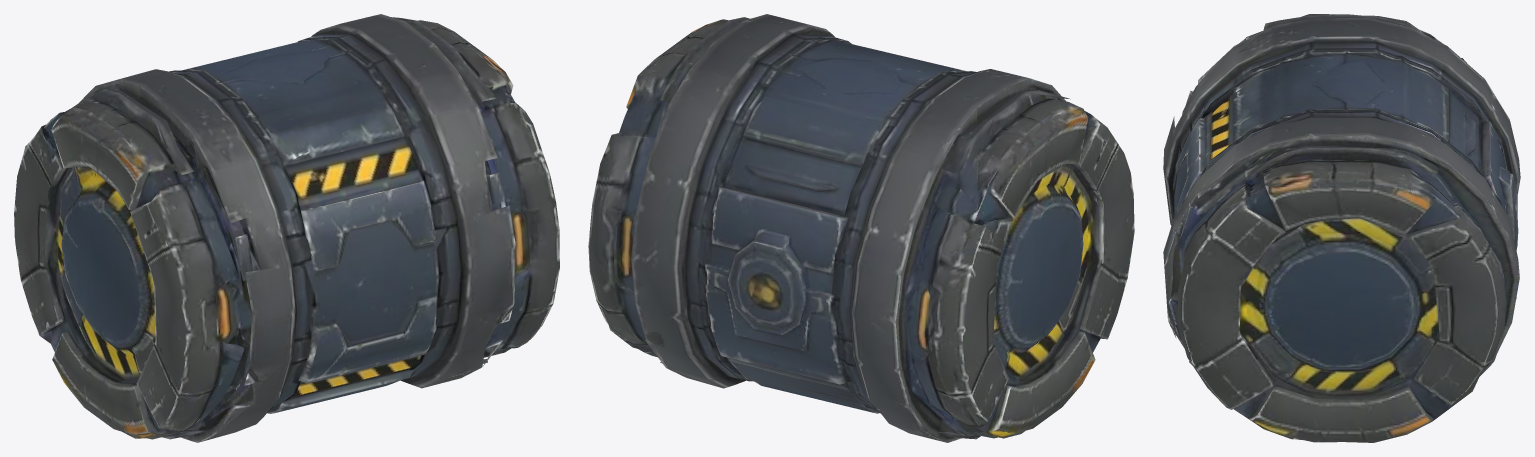
The model's file is simple_barrel.glb.
The picture shows the model from 3 angles, left to right: view 1: azimuth 30°, elevation 25°; view 2: azimuth 150°, elevation 25°; view 3: azimuth 270°, elevation 25°; orthographic projection. The views are drawn at different scales.
Parts seen in each view (by area): view 1: mesh_node; view 2: mesh_node; view 3: mesh_node.
Part boxes in pixels (left/top/right/bottom): mesh_node: left=14, top=14, right=559, bottom=442; mesh_node: left=588, top=14, right=1134, bottom=442; mesh_node: left=1163, top=14, right=1520, bottom=442.
Size of the model in its own units: 1 by 0.8242 by 0.9023.
Materials: 1 (1 with a texture image).
